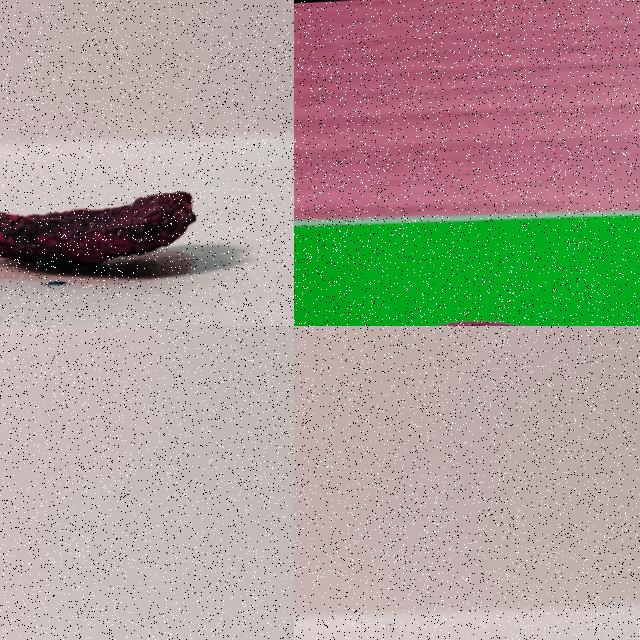Fine_cocoabeans: (294, 255, 639, 325)
Flat_cocoabeans: (0, 143, 280, 325)
